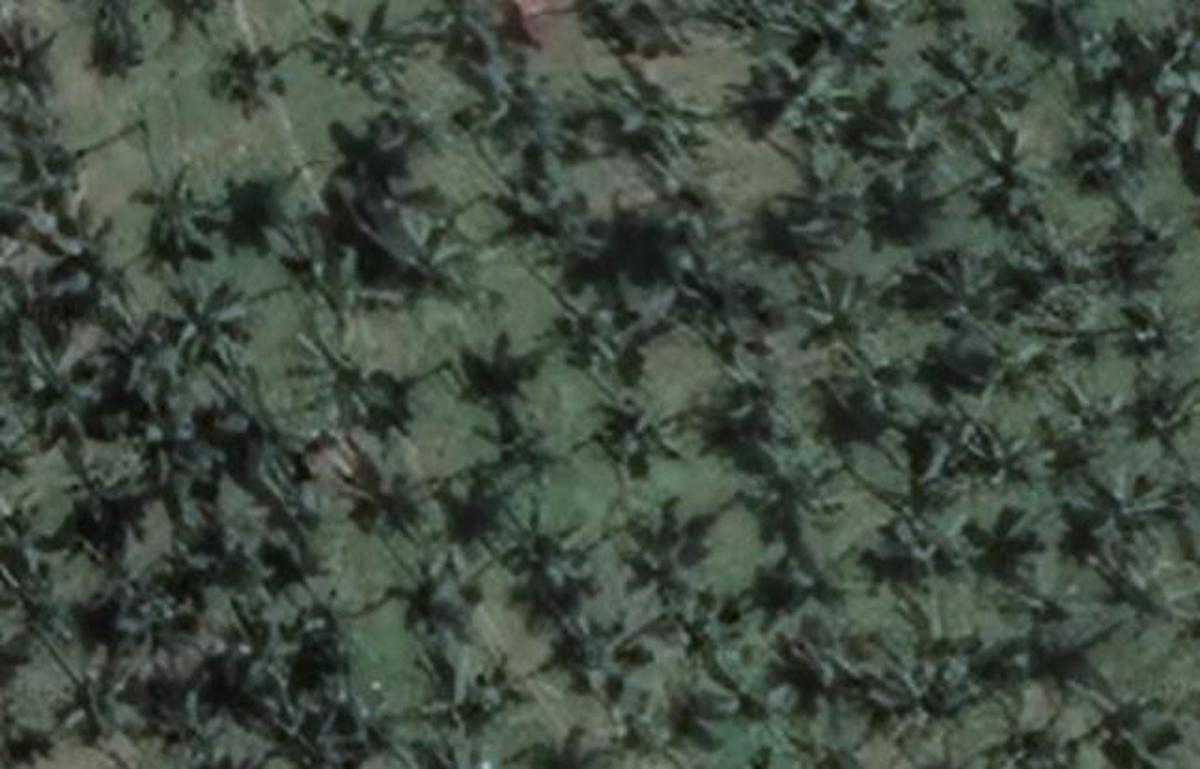coconut: (128, 151, 250, 279), (1071, 80, 1186, 197), (470, 397, 582, 515), (382, 537, 492, 657), (207, 584, 311, 701), (544, 586, 651, 699), (320, 0, 427, 111), (584, 378, 697, 483), (559, 272, 668, 380), (162, 270, 268, 380), (961, 113, 1067, 223), (906, 35, 1026, 132), (604, 496, 711, 604), (1086, 670, 1198, 769), (207, 399, 313, 502), (494, 154, 602, 255), (645, 147, 746, 255), (737, 46, 845, 147), (1028, 369, 1136, 468), (867, 640, 968, 744), (1099, 190, 1194, 300), (789, 266, 893, 365), (783, 608, 880, 714), (645, 649, 746, 750), (882, 490, 987, 587), (298, 235, 399, 335), (115, 573, 216, 673), (466, 48, 567, 147), (1095, 530, 1194, 630), (13, 345, 104, 453), (763, 524, 862, 623), (285, 334, 390, 427), (347, 447, 436, 554), (1015, 3, 1114, 98), (1009, 220, 1101, 322), (0, 531, 83, 643), (992, 681, 1097, 769), (35, 214, 134, 307), (1073, 438, 1162, 541), (778, 156, 873, 250), (5, 115, 95, 214), (266, 683, 367, 769), (414, 653, 515, 739), (910, 378, 996, 479), (59, 647, 153, 739), (707, 349, 802, 440), (864, 102, 955, 197), (388, 201, 477, 298), (753, 440, 845, 533), (505, 496, 599, 587), (602, 63, 697, 153), (914, 246, 1011, 328), (1117, 362, 1196, 462), (210, 24, 296, 113), (647, 578, 729, 671), (796, 1, 890, 74), (0, 18, 69, 111)
